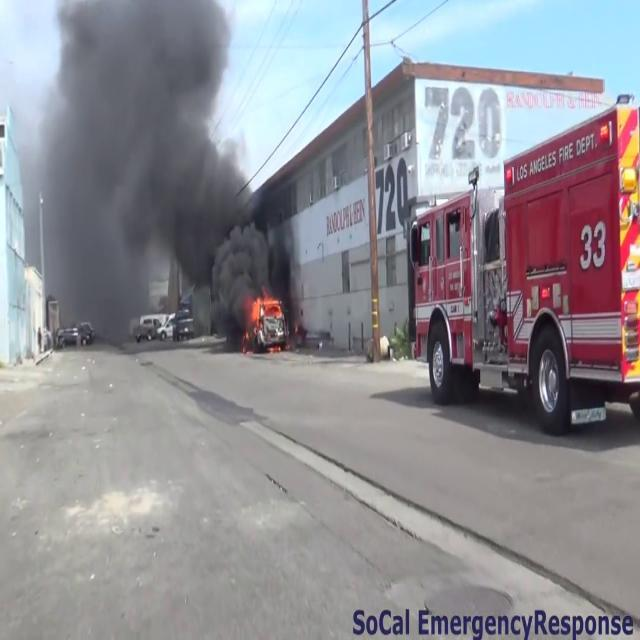Fire: (246, 286, 286, 332)
Smoke: (16, 0, 302, 330)
